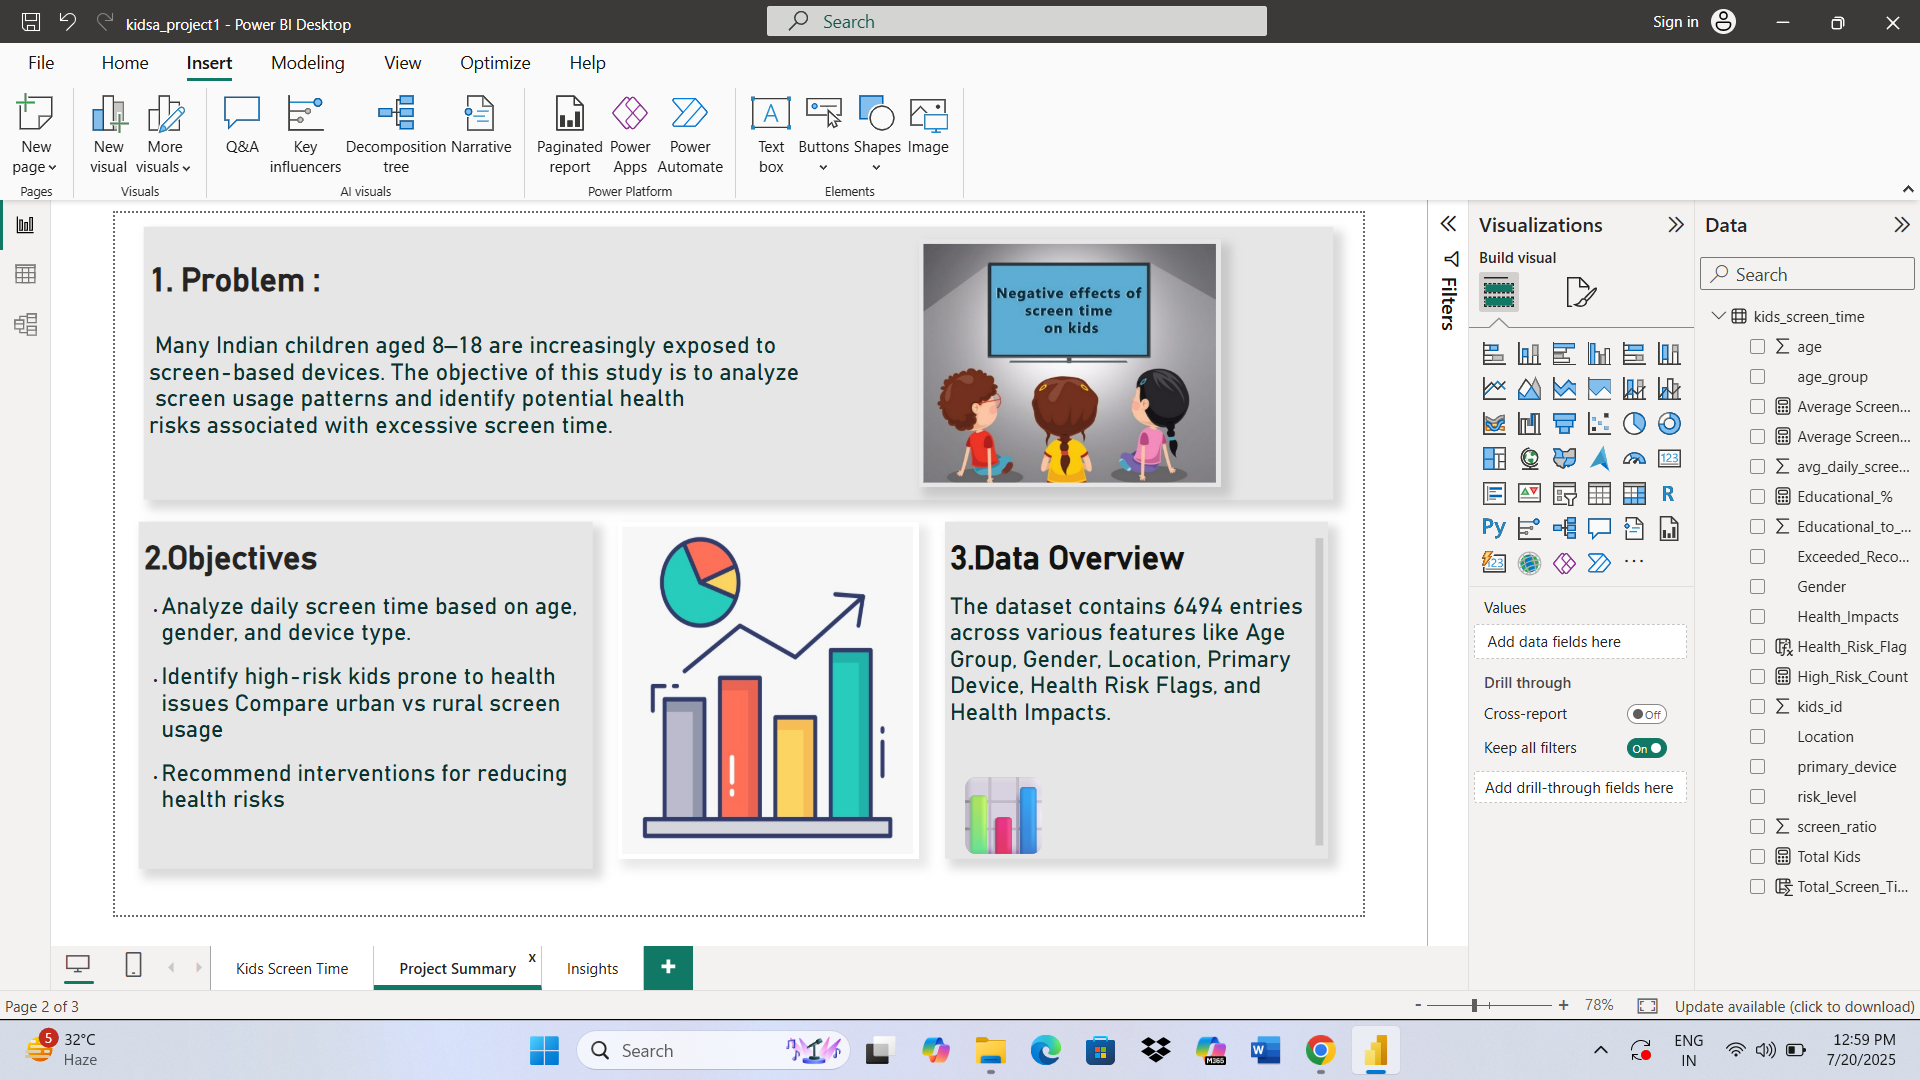

What the dashboard file says about the page in this screenshot:
{"tool":"powerbi","page":{"name":"Project Summary","canvas":[1280,720],"ordinal":1},"visuals":[{"type":"textbox","box":[30,14.3,1220,280],"z":0},{"type":"textbox","box":[24.3,317.1,465.7,355.7],"z":1},{"type":"textbox","box":[851.4,317.1,392.9,345.7],"z":2},{"type":"image","box":[824.3,27.1,310,254.3],"z":5},{"type":"image","box":[515.7,317.1,308.6,345.7],"z":6}]}

Visuals, with their boxes on the page's 1280x720 design canvas (x1, y1, x2, y2). These are canvas units, not pixel positions in the 1920x1080 screenshot, which may show the page scaled, cropped or inside an application window:
textbox: {"left": 30, "top": 14, "right": 1250, "bottom": 294}
textbox: {"left": 24, "top": 317, "right": 490, "bottom": 673}
textbox: {"left": 851, "top": 317, "right": 1244, "bottom": 663}
image: {"left": 824, "top": 27, "right": 1134, "bottom": 281}
image: {"left": 516, "top": 317, "right": 824, "bottom": 663}
